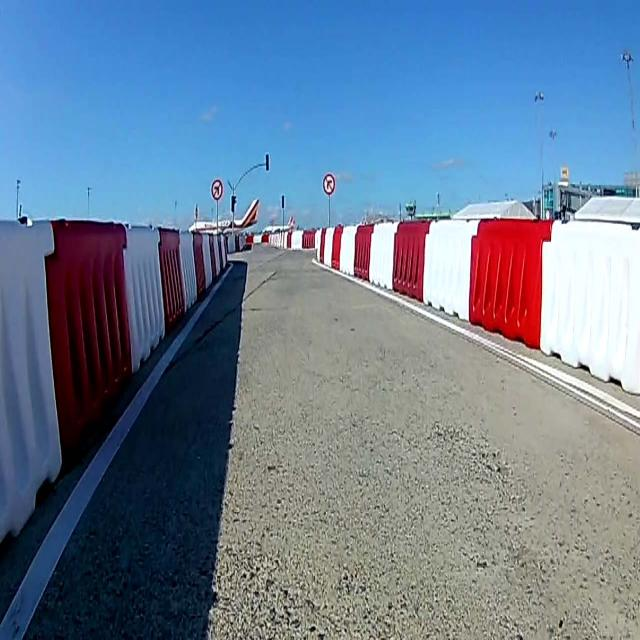sagadonulmez: (322, 172, 336, 195)
soladonulmez: (210, 179, 223, 201)
